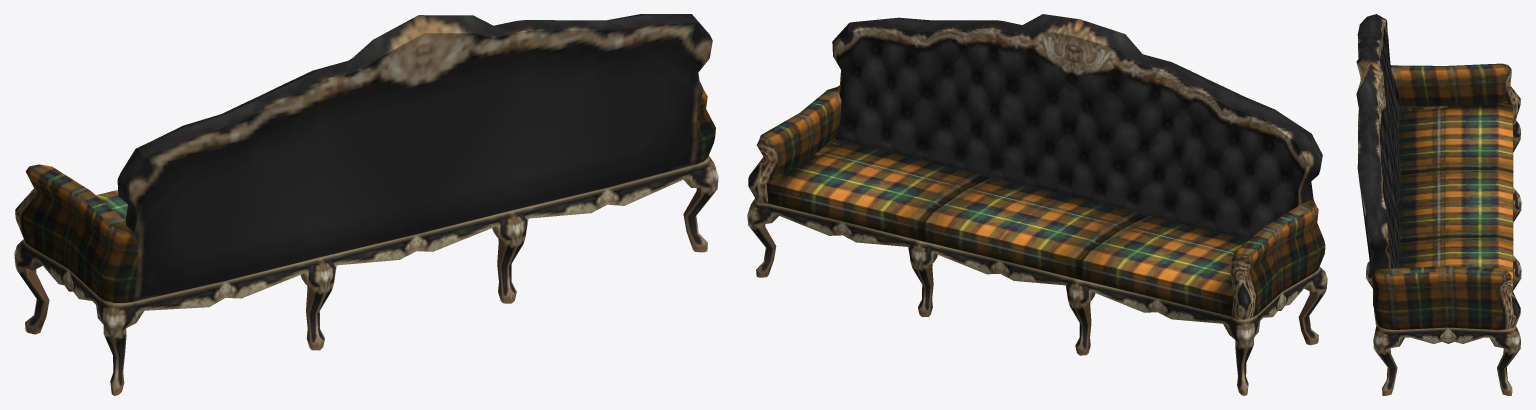
File: furni_0200310_03.FBX
3 renders of one model, left to right at view 1: azimuth 30°, elevation 25°; view 2: azimuth 150°, elevation 25°; view 3: azimuth 270°, elevation 25°, orthographic. The views are drawn at different scales.
Visible parts, largest first — view 1: furni_0200310_03; view 2: furni_0200310_03; view 3: furni_0200310_03.
Boxes of the visible parts, left/top/right/bottom form: furni_0200310_03: left=14, top=14, right=718, bottom=395; furni_0200310_03: left=747, top=14, right=1327, bottom=395; furni_0200310_03: left=1356, top=14, right=1521, bottom=395.
Bounding box in the file's own units: 237 × 116 × 75.87.
